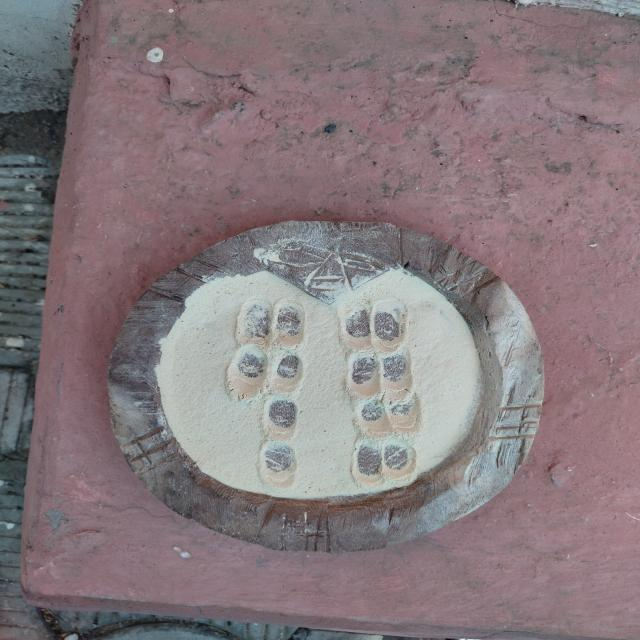double: (230, 345, 304, 400), (340, 350, 420, 400), (233, 298, 308, 350), (342, 300, 412, 353), (351, 392, 427, 440), (351, 435, 418, 488)
single: (256, 440, 301, 490), (262, 396, 300, 442)
